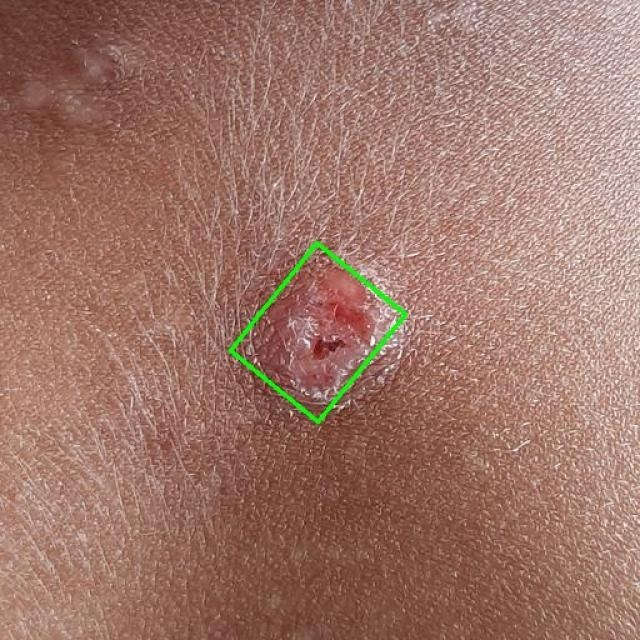Contact Dermatitis: (230, 243, 405, 422)
